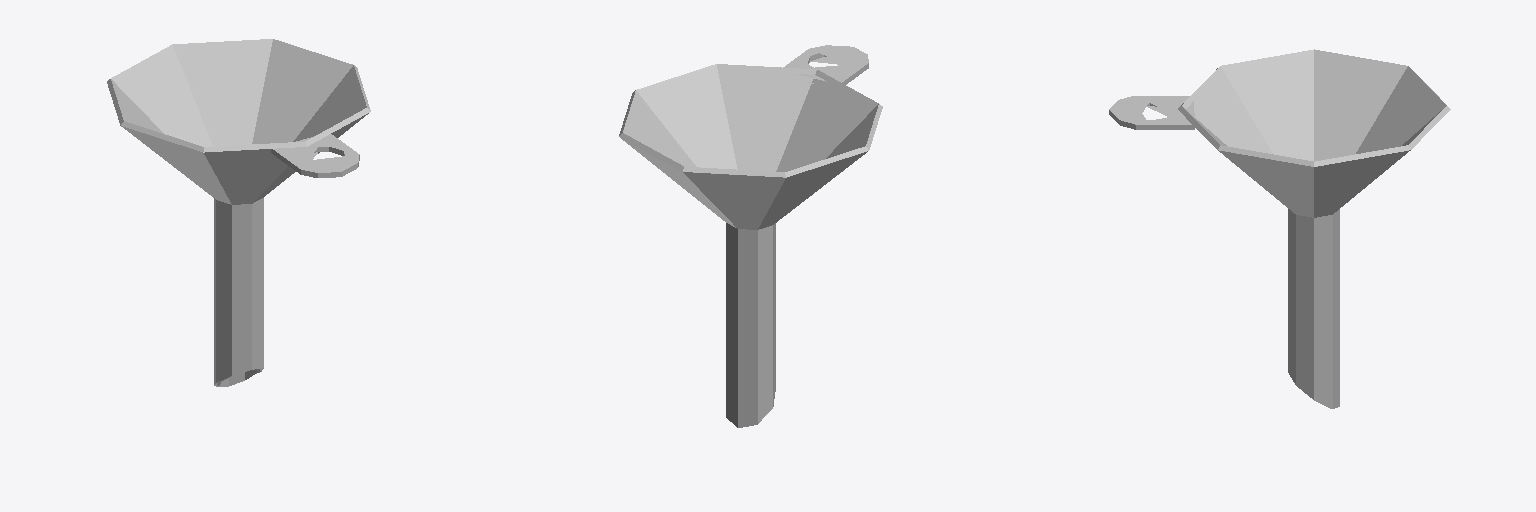
The model's file is funnel_small.obj.
3 renders of one model, left to right at view 1: azimuth 30°, elevation 25°; view 2: azimuth 150°, elevation 25°; view 3: azimuth 270°, elevation 25°, orthographic.
Visible parts, largest first — view 1: funnel_small_Cylinder.008; view 2: funnel_small_Cylinder.008; view 3: funnel_small_Cylinder.008.
Part boxes in pixels (bbox=[...]): funnel_small_Cylinder.008: bbox=[107, 39, 370, 386]; funnel_small_Cylinder.008: bbox=[619, 45, 882, 427]; funnel_small_Cylinder.008: bbox=[1109, 49, 1450, 408].
Size of the model in its own units: 2 by 2.42 by 2.5.